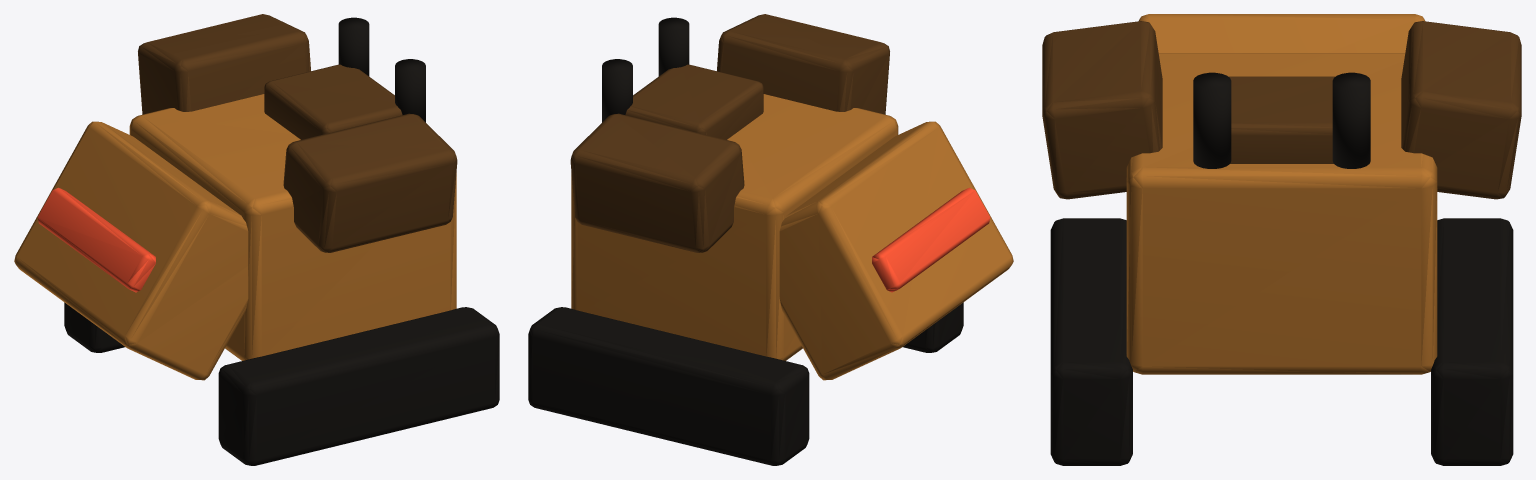
The model's file is pulse_enemy_tank.obj.
3 renders of one model, left to right at view 1: azimuth 30°, elevation 25°; view 2: azimuth 150°, elevation 25°; view 3: azimuth 270°, elevation 25°, orthographic. The views are drawn at different scales.
Parts seen in each view (by area): view 1: tank_chassis, tank_glacis, tank_tread_-1, tank_pauldron_-1, tank_pauldron_1, tank_hatch, tank_visor, tank_stack_-1, tank_stack_1, tank_tread_1; view 2: tank_chassis, tank_glacis, tank_tread_1, tank_pauldron_1, tank_pauldron_-1, tank_hatch, tank_visor, tank_stack_1, tank_stack_-1, tank_tread_-1; view 3: tank_chassis, tank_tread_-1, tank_tread_1, tank_pauldron_-1, tank_pauldron_1, tank_glacis, tank_hatch, tank_stack_-1, tank_stack_1.
Part boxes in pixels (x1=…): tank_chassis: x1=129, y1=94, x2=456, y2=360; tank_glacis: x1=14, y1=121, x2=248, y2=380; tank_tread_-1: x1=218, y1=307, x2=499, y2=465; tank_pauldron_-1: x1=283, y1=113, x2=457, y2=252; tank_pauldron_1: x1=138, y1=14, x2=310, y2=114; tank_hatch: x1=264, y1=64, x2=402, y2=139; tank_visor: x1=37, y1=187, x2=155, y2=292; tank_stack_-1: x1=395, y1=59, x2=425, y2=122; tank_stack_1: x1=338, y1=17, x2=369, y2=76; tank_tread_1: x1=64, y1=302, x2=124, y2=352; tank_chassis: x1=571, y1=94, x2=898, y2=360; tank_glacis: x1=779, y1=121, x2=1013, y2=380; tank_tread_1: x1=528, y1=307, x2=809, y2=465; tank_pauldron_1: x1=570, y1=113, x2=744, y2=252; tank_pauldron_-1: x1=717, y1=14, x2=889, y2=114; tank_hatch: x1=625, y1=64, x2=763, y2=139; tank_visor: x1=872, y1=187, x2=990, y2=292; tank_stack_1: x1=602, y1=59, x2=632, y2=122; tank_stack_-1: x1=658, y1=17, x2=689, y2=76; tank_tread_-1: x1=903, y1=302, x2=963, y2=352; tank_chassis: x1=1126, y1=53, x2=1437, y2=374; tank_tread_-1: x1=1050, y1=218, x2=1132, y2=465; tank_tread_1: x1=1431, y1=218, x2=1513, y2=465; tank_pauldron_-1: x1=1042, y1=21, x2=1162, y2=199; tank_pauldron_1: x1=1401, y1=21, x2=1521, y2=199; tank_glacis: x1=1139, y1=14, x2=1424, y2=52; tank_hatch: x1=1229, y1=76, x2=1334, y2=163; tank_stack_-1: x1=1193, y1=72, x2=1231, y2=168; tank_stack_1: x1=1332, y1=72, x2=1370, y2=168.
Bounding box in the file's own units: 1.53 × 1.3 × 1.51.
